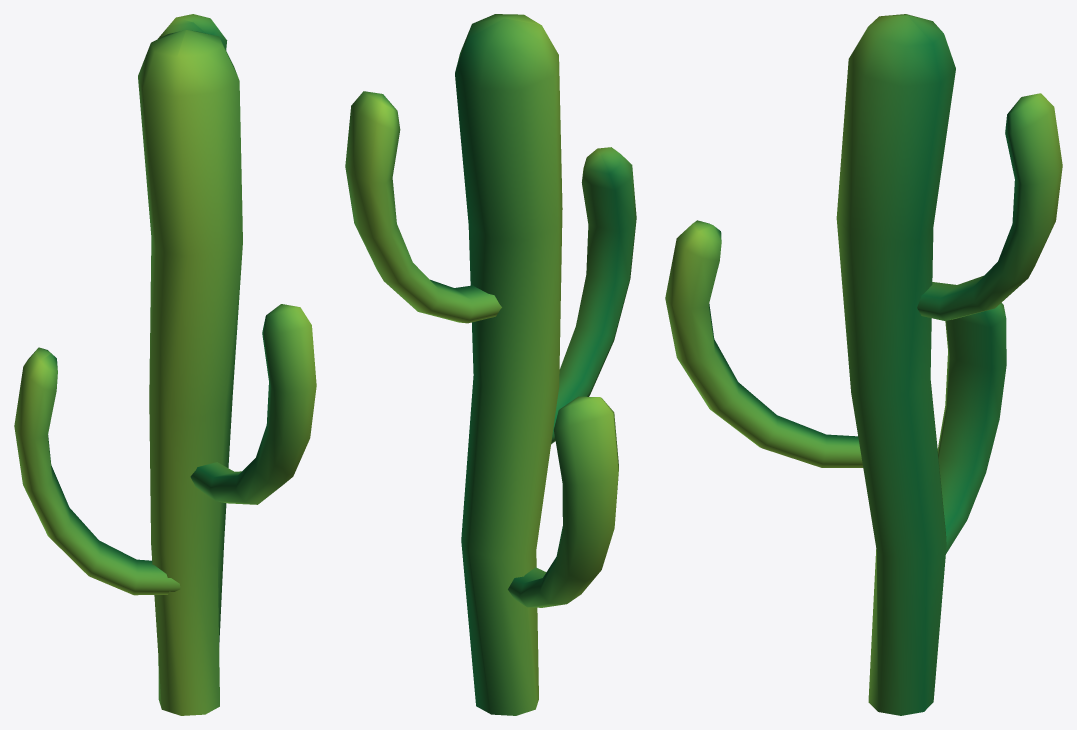
The model's file is Cactus_01.FBX.
3 renders of one model, left to right at view 1: azimuth 30°, elevation 25°; view 2: azimuth 150°, elevation 25°; view 3: azimuth 270°, elevation 25°, orthographic. The views are drawn at different scales.
Parts seen in each view (by area): view 1: Cactus_01; view 2: Cactus_01; view 3: Cactus_01.
Boxes of the visible parts, x1,y1,x2,y2 form: Cactus_01: (14, 14, 316, 715); Cactus_01: (345, 14, 636, 715); Cactus_01: (665, 14, 1062, 715).
Bounding box in the file's own units: 47.07 × 131 × 68.59.
Materials: 1 (1 with a texture image).
